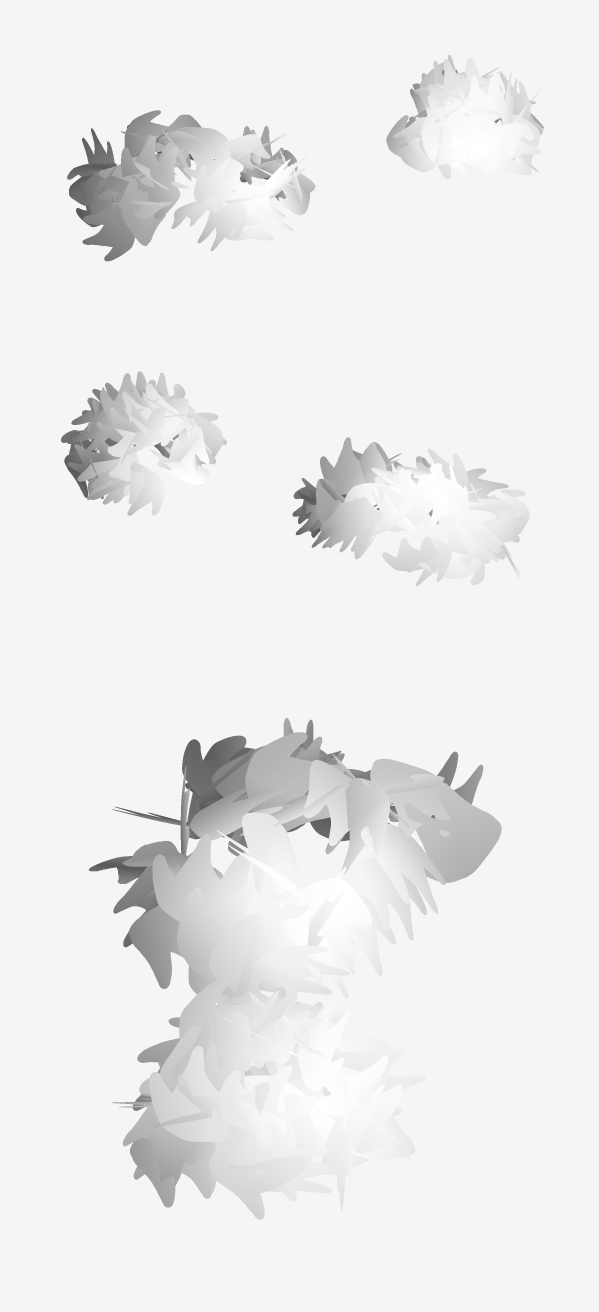
Rendered from bush.fbx.
3 views of the same model, one above another, from view 1: azimuth 30°, elevation 25°; view 2: azimuth 150°, elevation 25°; view 3: azimuth 270°, elevation 25° (orthographic). The views are drawn at different scales.
Visible parts, largest first — view 1: PlanePrefab.002, PlanePrefab.001; view 2: PlanePrefab.002, PlanePrefab.001; view 3: PlanePrefab.002, PlanePrefab.001.
Boxes of the visible parts, x1,y1,x2,y2 form: PlanePrefab.002: (67,110,315,261); PlanePrefab.001: (386,54,544,180); PlanePrefab.002: (292,437,529,585); PlanePrefab.001: (61,371,226,515); PlanePrefab.002: (89,718,501,1000); PlanePrefab.001: (111,977,425,1219).
Bounding box in the file's own units: 9.8 × 3.3 × 5.18.
